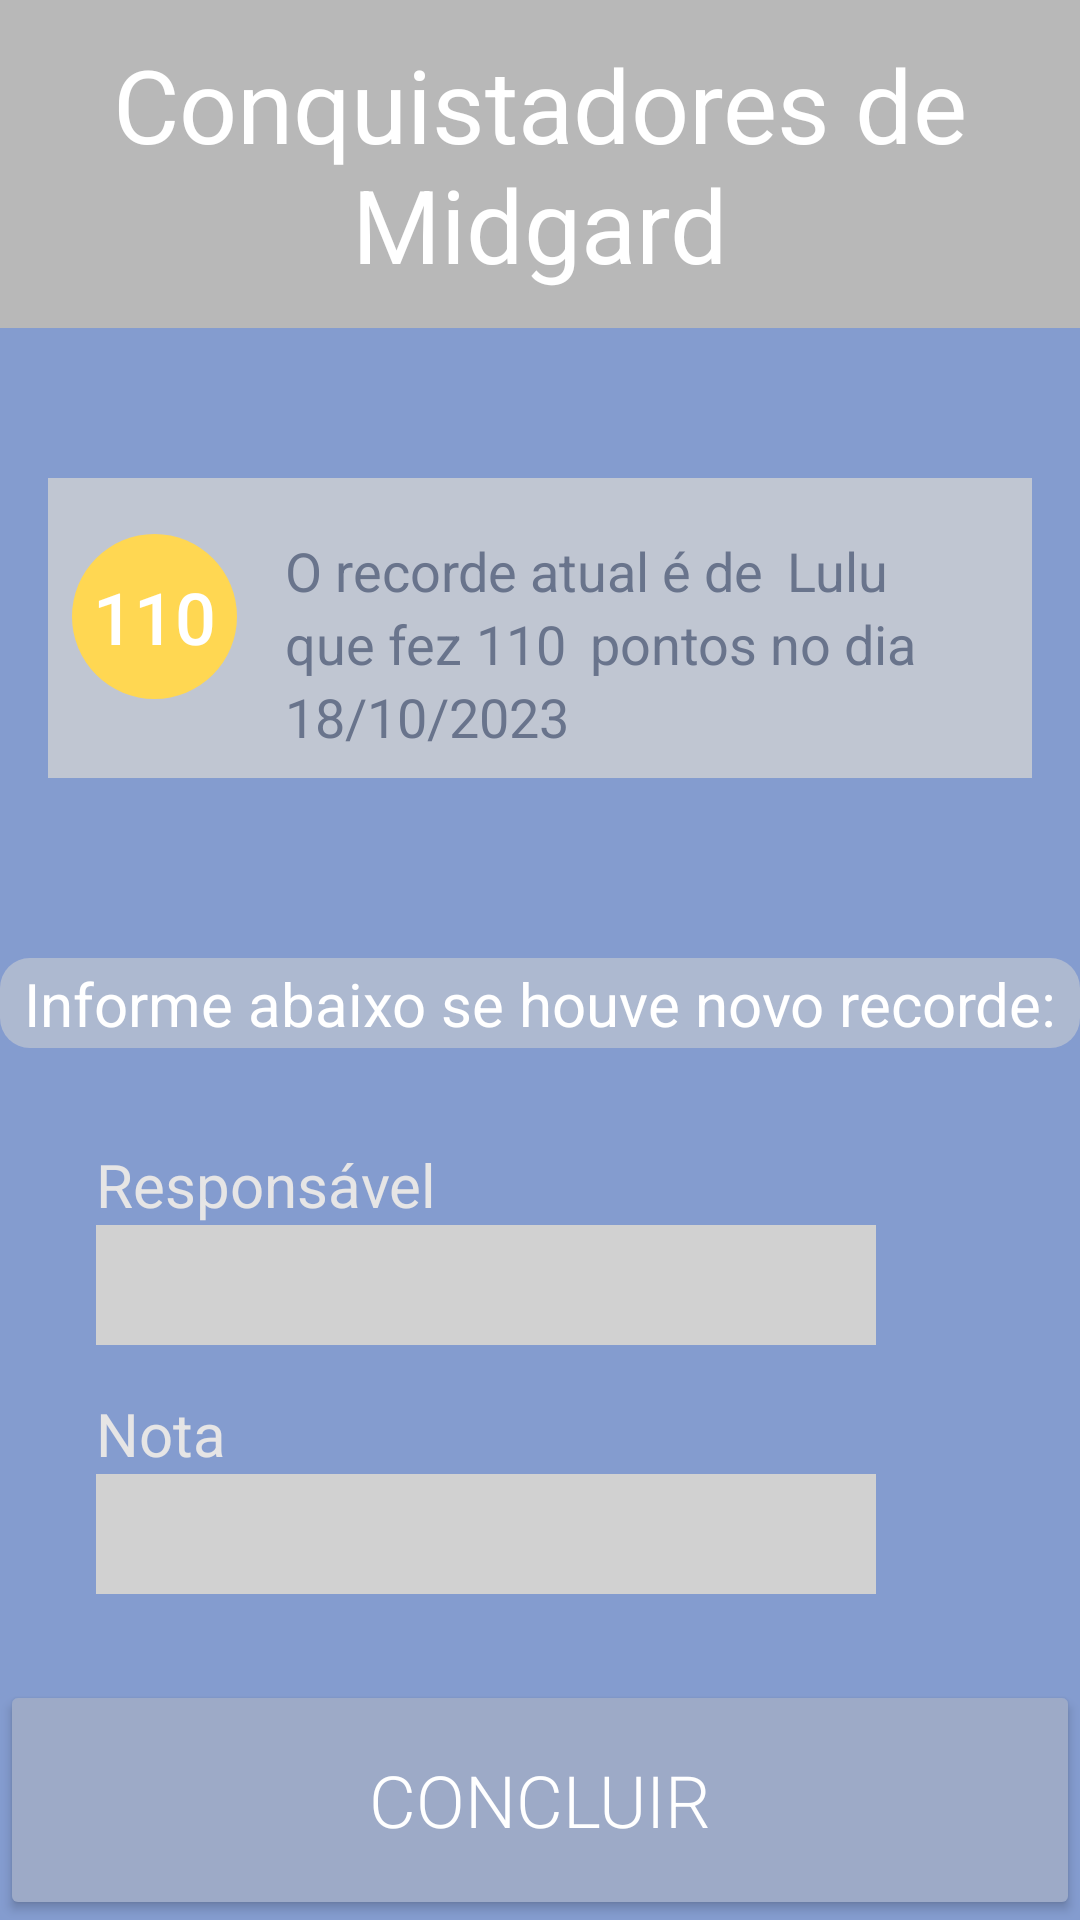

Screen size 1080w x 1920h. Icon name, then its center in pixels as (x,y):
circulo amarelo: (154,616)
